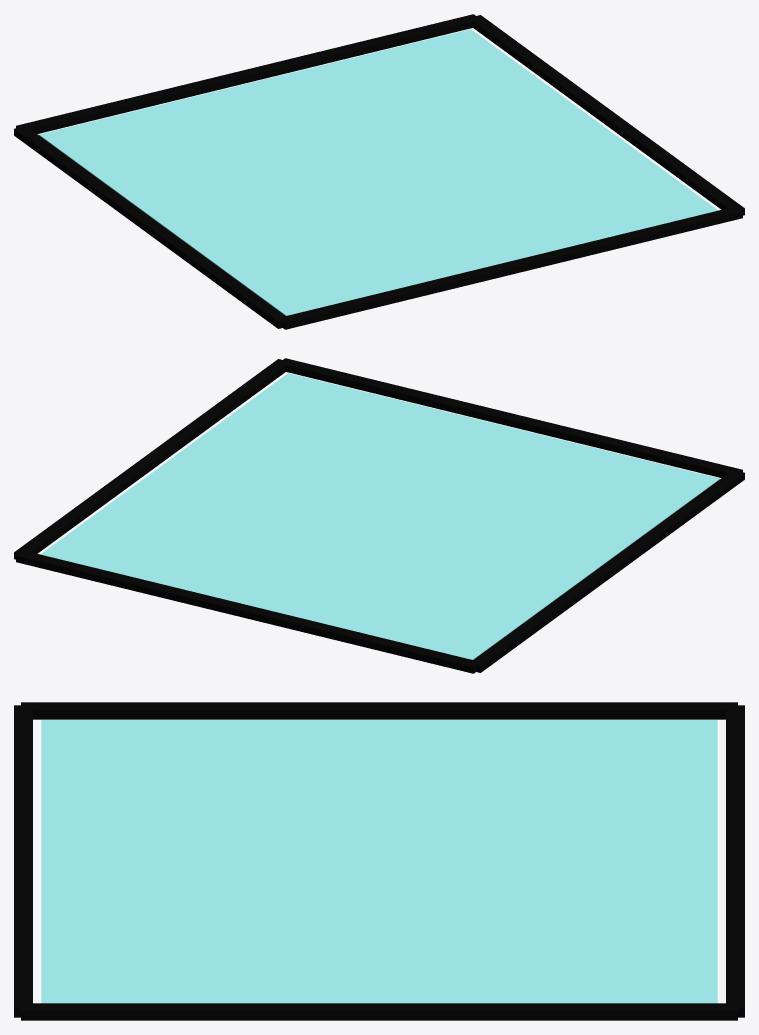
File: ventana.obj
3 views of the same model, one above another, from view 1: azimuth 30°, elevation 25°; view 2: azimuth 150°, elevation 25°; view 3: azimuth 270°, elevation 25° (orthographic). The views are drawn at different scales.
Visible parts, largest first — view 1: Box003, Box002; view 2: Box003, Box002; view 3: Box003, Box002.
Part boxes in pixels (x1,y1,x2,y2): Box003: (39,29,718,315); Box002: (14,14,744,329); Box003: (40,373,719,659); Box002: (14,358,744,673); Box003: (41,720,717,1003); Box002: (14,702,744,1020).
Bounding box in the file's own units: 10.27 × 0.1431 × 10.27.
2 materials, 2 textured.
